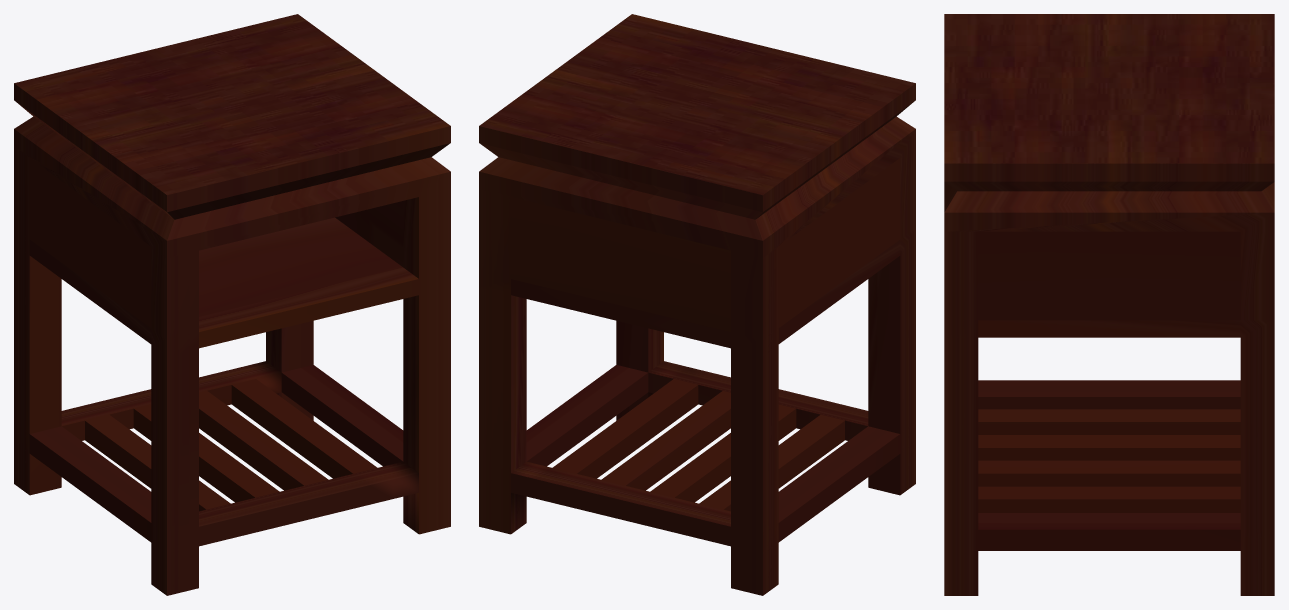
The model's file is Desk.fbx.
3 views of the same model, side by side, from view 1: azimuth 30°, elevation 25°; view 2: azimuth 150°, elevation 25°; view 3: azimuth 270°, elevation 25° (orthographic). The views are drawn at different scales.
Visible parts, largest first — view 1: Desk; view 2: Desk; view 3: Desk.
Part boxes in pixels (x1,y1,x2,y2): Desk: [14, 14, 450, 595]; Desk: [479, 14, 915, 595]; Desk: [944, 14, 1274, 595].
Size of the model in its own units: 0.4976 by 0.6712 by 0.4647.
1 material, 1 textured.
